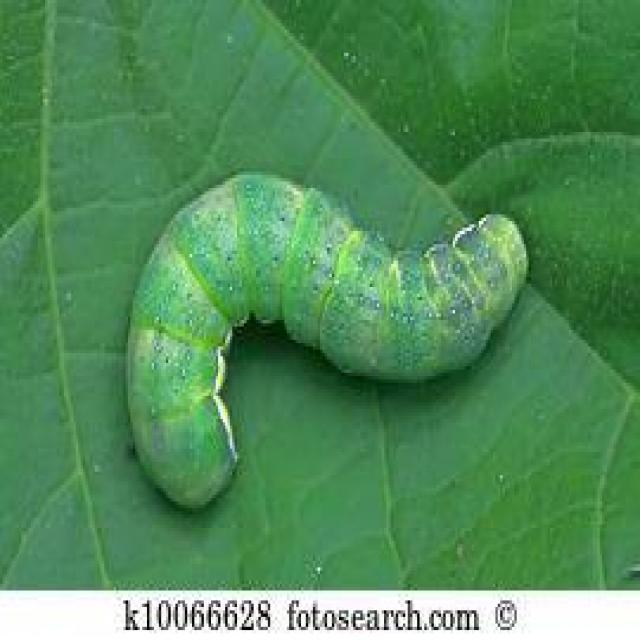BeetArmyWorm-Larva-: (120, 161, 532, 521)
